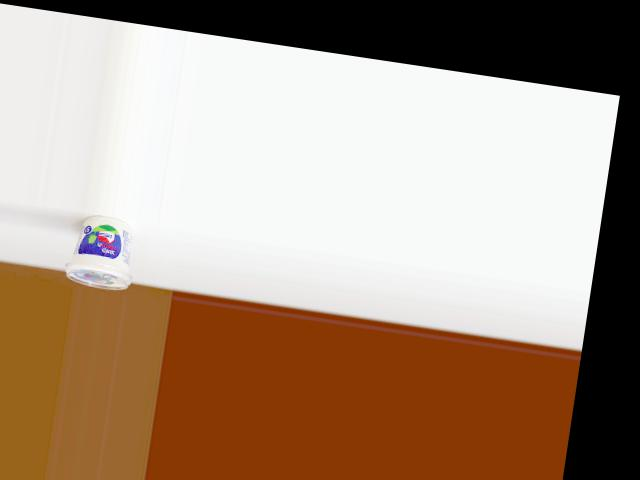cotage: (63, 211, 142, 292)
